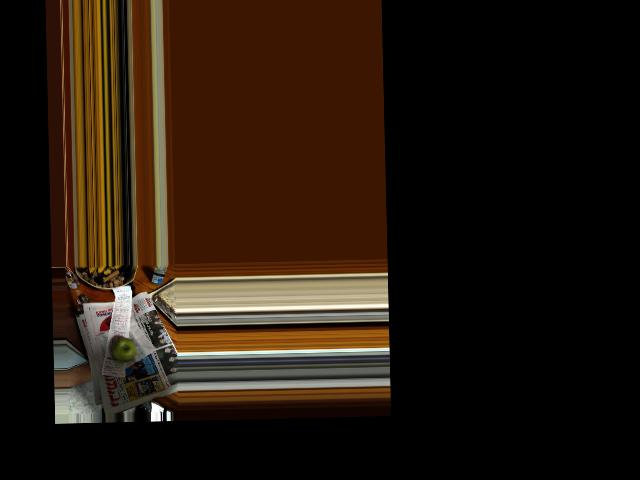apple: (110, 336, 138, 366)
